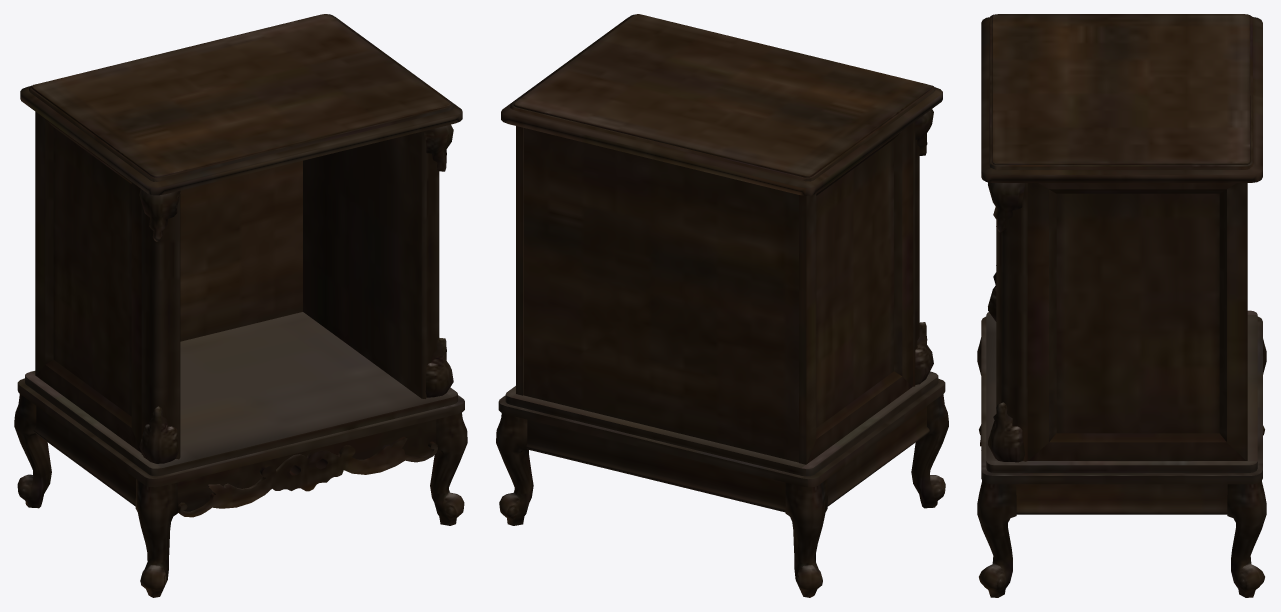
File: ClassicNightstand_01.glb
3 views of the same model, side by side, from view 1: azimuth 30°, elevation 25°; view 2: azimuth 150°, elevation 25°; view 3: azimuth 270°, elevation 25° (orthographic). The views are drawn at different scales.
Parts seen in each view (by area): view 1: c13_wood, c10_wood, c05_wood, c16_wood, c07_wood, c20_wood, c08_wood, c02_wood, c21_wood, c19_wood, c23_wood, c03_wood (+8 smaller); view 2: c16_wood, c10_wood, c05_wood, c01_wood, c07_wood, c22_wood, c02_wood, c14_wood, c20_wood, c18_wood, c03_wood, c15_wood (+7 smaller); view 3: c06_wood, c10_wood, c07_wood, c00_wood, c14_wood, c01_wood, c22_wood, c13_wood, c15_wood, c20_wood, c18_wood, c12_wood (+2 smaller).
Boxes of the visible parts, x1,y1,x2,y2 form: c13_wood: [31, 132, 451, 467]; c10_wood: [32, 14, 449, 175]; c05_wood: [45, 119, 131, 427]; c16_wood: [180, 160, 302, 341]; c07_wood: [35, 111, 453, 463]; c20_wood: [177, 419, 437, 517]; c08_wood: [141, 194, 180, 459]; c02_wood: [14, 394, 135, 508]; c21_wood: [17, 383, 464, 487]; c19_wood: [20, 92, 462, 195]; c23_wood: [25, 376, 457, 476]; c03_wood: [135, 479, 274, 597]; c16_wood: [510, 105, 805, 462]; c10_wood: [514, 14, 931, 175]; c05_wood: [816, 130, 902, 438]; c01_wood: [496, 413, 785, 525]; c07_wood: [806, 109, 933, 464]; c22_wood: [505, 126, 937, 476]; c02_wood: [785, 406, 929, 597]; c14_wood: [501, 18, 942, 187]; c20_wood: [498, 402, 807, 487]; c18_wood: [501, 112, 805, 195]; c03_wood: [911, 394, 948, 508]; c15_wood: [498, 378, 945, 479]; c06_wood: [1039, 183, 1236, 442]; c10_wood: [993, 14, 1249, 163]; c07_wood: [988, 182, 1247, 462]; c00_wood: [977, 481, 1227, 597]; c14_wood: [981, 17, 1262, 174]; c01_wood: [1227, 481, 1266, 597]; c22_wood: [986, 310, 1257, 472]; c13_wood: [986, 315, 1257, 460]; c15_wood: [981, 316, 1262, 475]; c20_wood: [980, 430, 1262, 484]; c18_wood: [986, 169, 1262, 182]; c12_wood: [990, 14, 1252, 166].
Size of the model in its own units: 0.5678 by 0.7 by 0.4242.
Materials: 1 (1 with a texture image).
